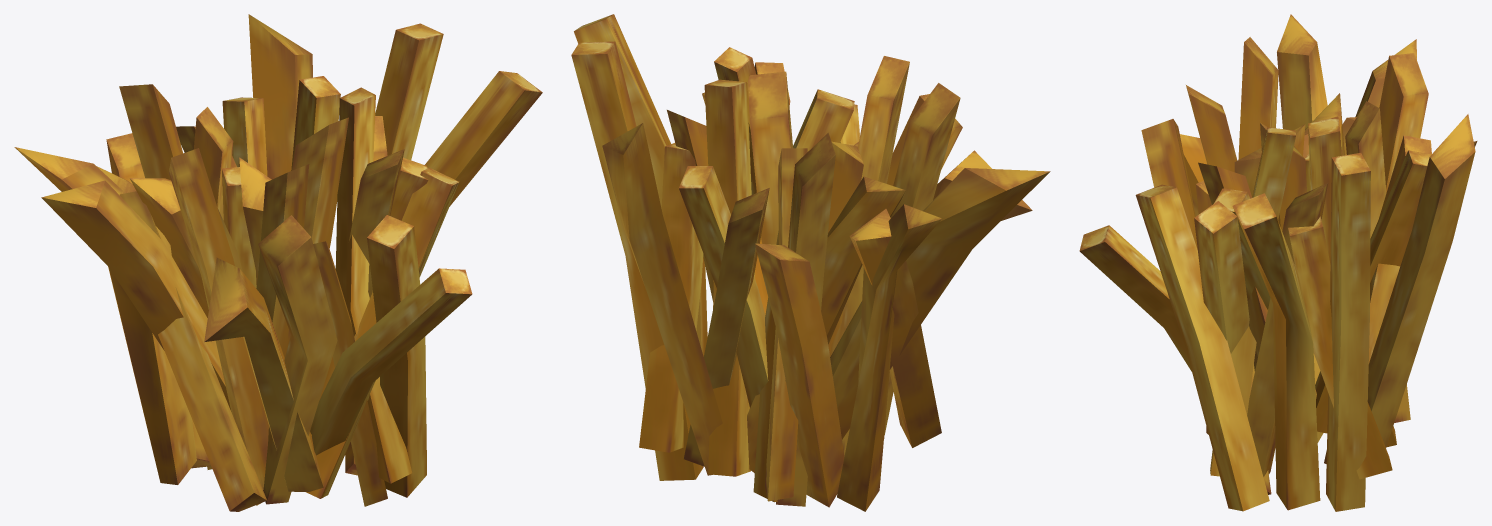
Rendered from friesstack.fbx.
The picture shows the model from 3 angles, left to right: view 1: azimuth 30°, elevation 25°; view 2: azimuth 150°, elevation 25°; view 3: azimuth 270°, elevation 25°; orthographic projection. The views are drawn at different scales.
Parts seen in each view (by area): view 1: friesstack; view 2: friesstack; view 3: friesstack.
Part boxes in pixels (<box>): friesstack: <box>14,14,542,511</box>; friesstack: <box>571,14,1050,511</box>; friesstack: <box>1079,14,1477,511</box>.
Size of the model in its own units: 28.58 by 23.47 by 21.72.
